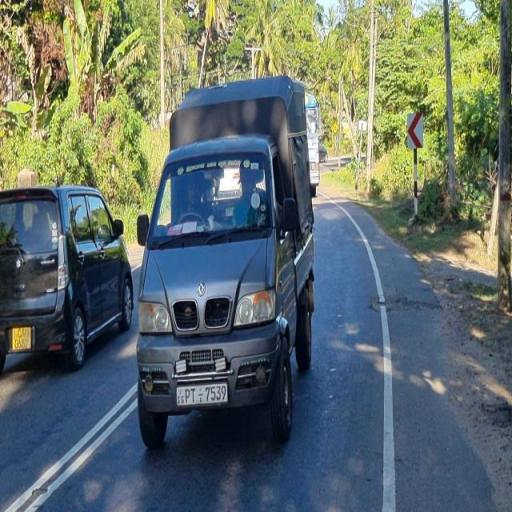double_white_line: (4, 384, 138, 511)
